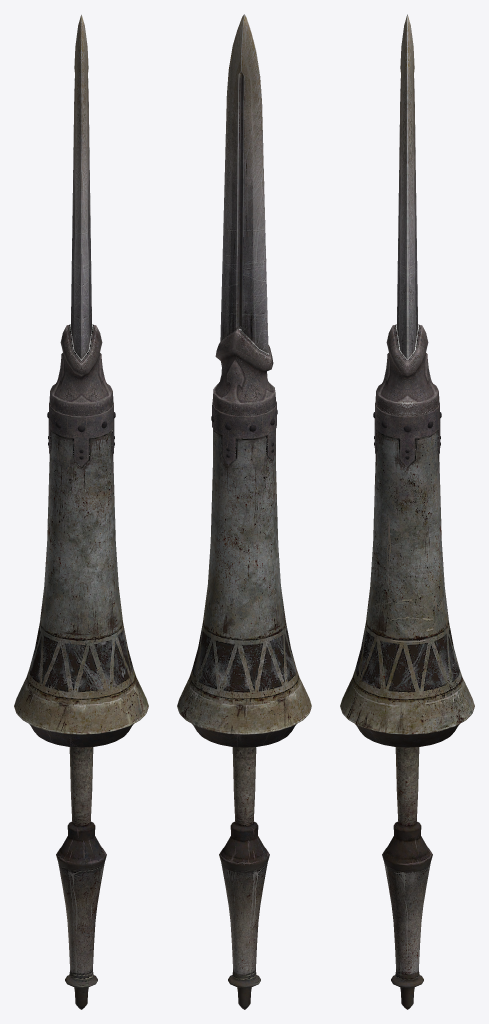
Rendered from bs_lan002.obj.
3 views of the same model, side by side, from view 1: azimuth 90°, elevation 25°; view 2: azimuth 150°, elevation 25°; view 3: azimuth 270°, elevation 25° (orthographic).
Visible parts, largest first — view 1: bs_lan002_001_LOD_1, bs_lan002_000_LOD_1, bs_lan002_002_LOD_1, bs_lan002_003_LOD_1; view 2: bs_lan002_001_LOD_1, bs_lan002_002_LOD_1, bs_lan002_000_LOD_1, bs_lan002_003_LOD_1; view 3: bs_lan002_001_LOD_1, bs_lan002_000_LOD_1, bs_lan002_002_LOD_1, bs_lan002_003_LOD_1.
Boxes of the visible parts, x1=… form: bs_lan002_001_LOD_1: x1=14, y1=403, x2=148, y2=747; bs_lan002_000_LOD_1: x1=56, y1=747, x2=106, y2=1009; bs_lan002_002_LOD_1: x1=71, y1=14, x2=91, y2=359; bs_lan002_003_LOD_1: x1=49, y1=324, x2=113, y2=416; bs_lan002_001_LOD_1: x1=177, y1=401, x2=311, y2=747; bs_lan002_002_LOD_1: x1=220, y1=14, x2=268, y2=353; bs_lan002_000_LOD_1: x1=219, y1=747, x2=269, y2=1009; bs_lan002_003_LOD_1: x1=212, y1=326, x2=276, y2=415; bs_lan002_001_LOD_1: x1=340, y1=403, x2=474, y2=747; bs_lan002_000_LOD_1: x1=382, y1=747, x2=432, y2=1009; bs_lan002_002_LOD_1: x1=397, y1=14, x2=417, y2=359; bs_lan002_003_LOD_1: x1=375, y1=324, x2=439, y2=416.
Size of the model in its own units: 45.26 by 369 by 45.26.
